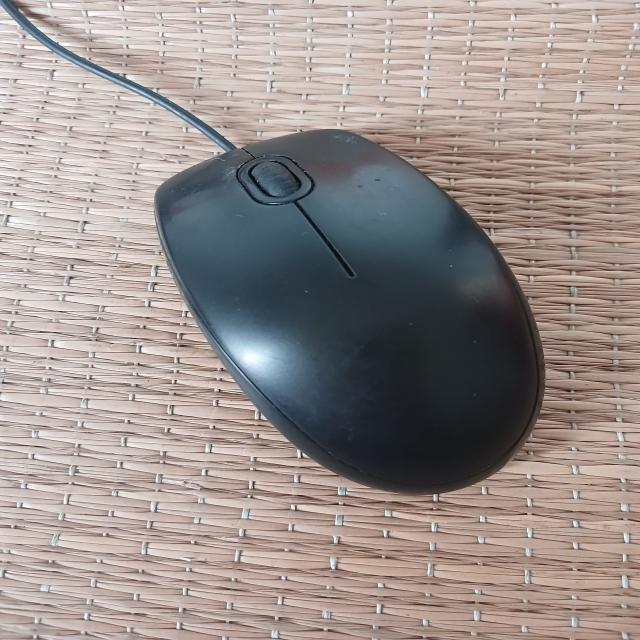mouse: (146, 121, 550, 505)
